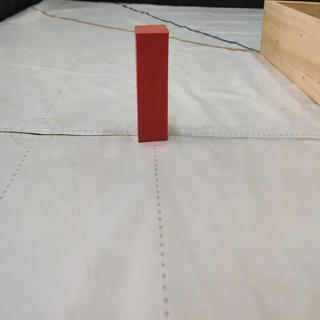redbox: (135, 23, 168, 142)
